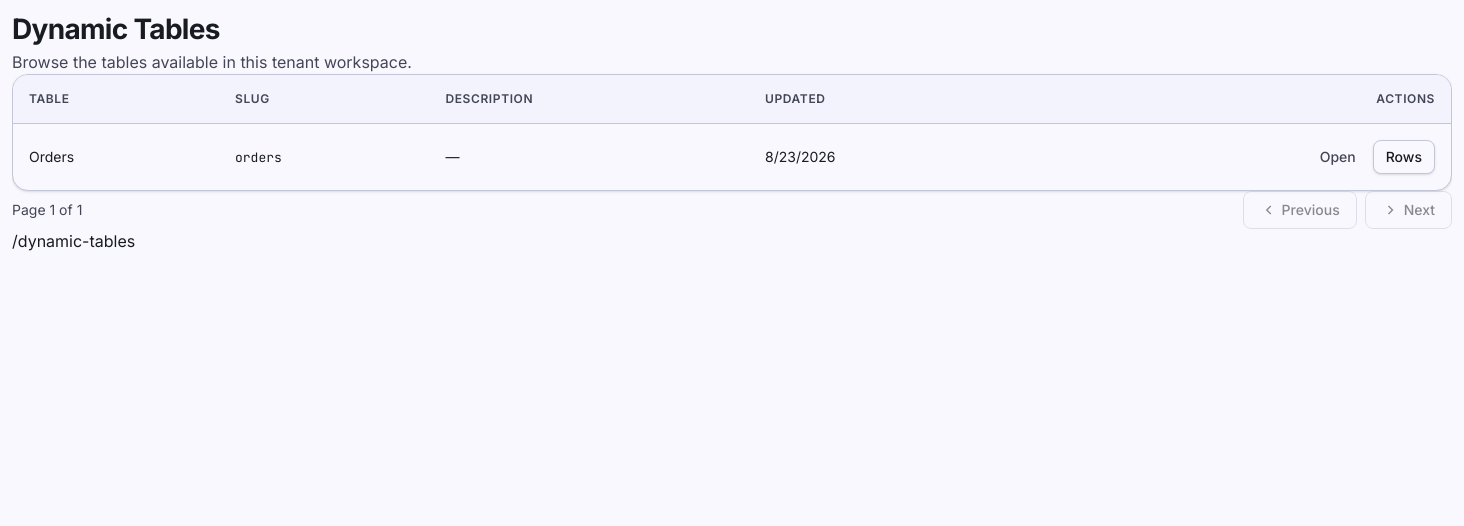
it: DynamicTablesPage › puts the opened table in the URL and drops it again on close
Click the button "Open": x=1338, y=157 [1307, 140, 1369, 174]
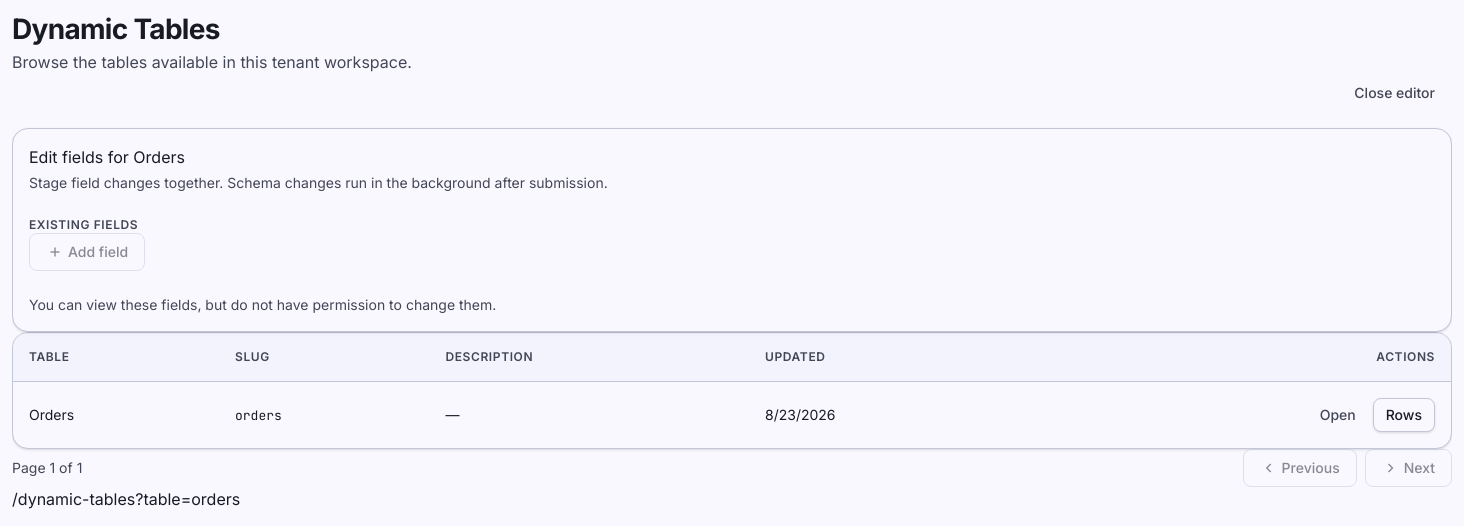
Now the text with test id "location" reads "/dynamic-tables?table=orders", box [12, 489, 240, 509]
Click the button "Close editor": x=1395, y=93 [1337, 74, 1452, 112]
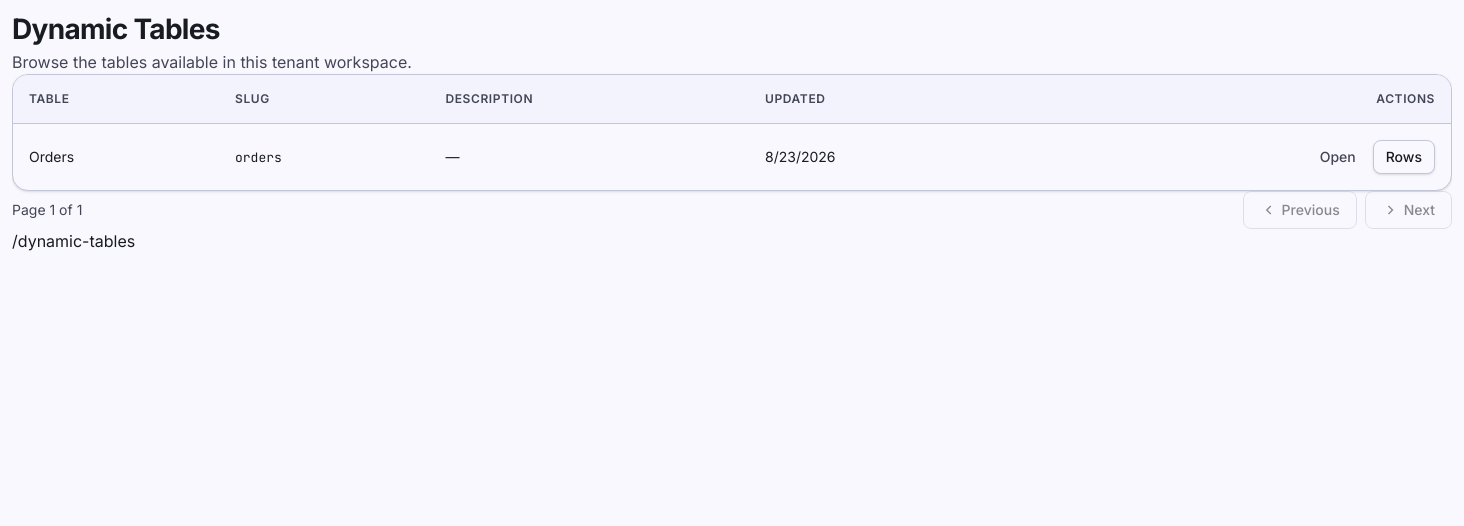
Now the text with test id "location" reads "/dynamic-tables", box [12, 231, 135, 251]
